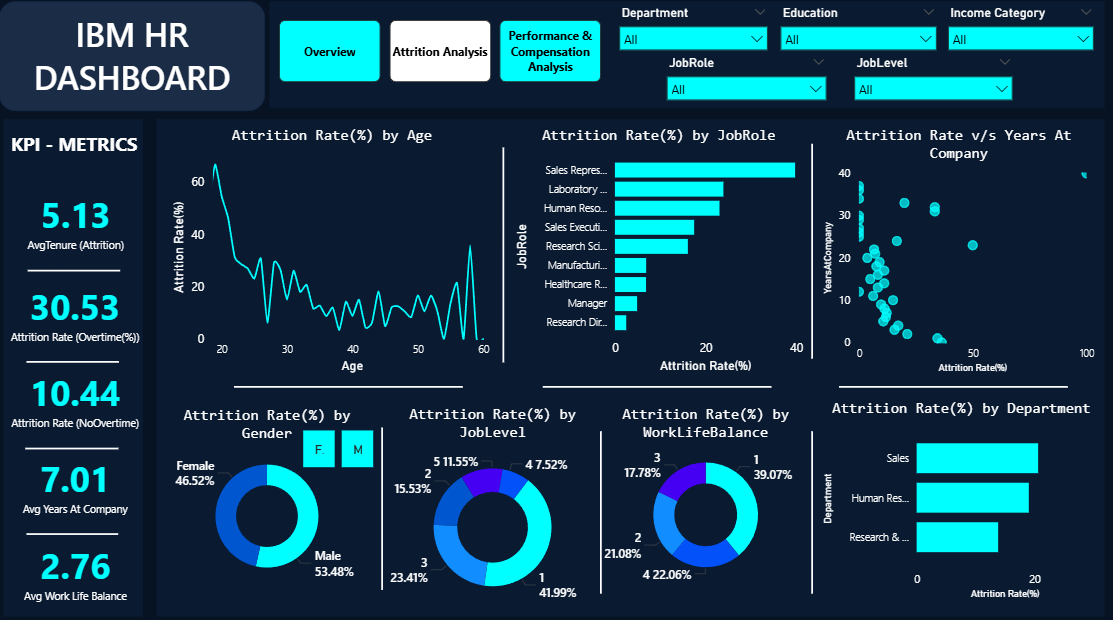

The page's visual inventory and layout, read from the dashboard file:
{"tool":"powerbi","page":{"name":"Attrition Analysis","canvas":[1280,720],"ordinal":1},"visuals":[{"type":"card","fields":{"Values":["All.AttritionRate_Overtime"]},"box":[7.6,314.6,171.4,98.6],"z":0},{"type":"card","fields":{"Values":["All.AttritionRate_NoOvertime"]},"box":[13.4,412.1,160,97.1],"z":1000},{"type":"clusteredBarChart","fields":{"Category":["WA_Fn-UseC_-HR-Employee-Attrition.Department"],"Y":["All.AttritionRate(%)"]},"box":[942.9,461.4,325.7,234.3],"z":2000},{"type":"clusteredBarChart","fields":{"Y":["All.AttritionRate(%)"],"Category":["WA_Fn-UseC_-HR-Employee-Attrition.JobRole"]},"box":[590,150,340,287.1],"z":3000},{"type":"donutChart","fields":{"Category":["WA_Fn-UseC_-HR-Employee-Attrition.JobLevel"],"Y":["All.AttritionRate(%)"]},"box":[444.3,468.6,251.4,240],"z":4000},{"type":"areaChart","fields":{"Category":["WA_Fn-UseC_-HR-Employee-Attrition.Age"],"Y":["All.AttritionRate(%)"]},"box":[198.6,150,375.7,287.1],"z":5000},{"type":"donutChart","fields":{"Y":["All.AttritionRate(%)"],"Category":["WA_Fn-UseC_-HR-Employee-Attrition.WorkLifeBalance"]},"box":[687.1,468.6,252.9,211.4],"z":6000},{"type":"card","fields":{"Values":["All.AvgYearsAtCompany"]},"box":[17.6,508.2,151.4,102.9],"z":7000},{"type":"card","fields":{"Values":["All.AvgWorkLifeBalance"]},"box":[15.9,610,155,98.3],"z":8000},{"type":"donutChart","fields":{"Y":["All.AttritionRate(%)"],"Category":["WA_Fn-UseC_-HR-Employee-Attrition.Gender"]},"box":[194.3,470,235.7,211.4],"z":9000},{"type":"scatterChart","title":"Attrition Rate v/s Years At Company","fields":{"Y":["HR_Data.YearsAtCompany"],"X":["All.AttritionRate(%)"]},"box":[942.9,150,320,287.1],"z":10000},{"type":"card","fields":{"Values":["All.AvgTenure_Attrition"]},"box":[8.4,201.4,170,114.3],"z":11000},{"type":"advancedSlicerVisual","fields":{"Values":["WA_Fn-UseC_-HR-Employee-Attrition.Gender"]},"box":[348.6,492.9,91.4,52.9],"z":12000},{"type":"textbox","box":[14.3,150,175.7,47.1],"z":13000},{"type":"shape","box":[38.6,297.1,105.7,35.7],"z":14000},{"type":"shape","box":[37.1,401.4,105.7,35.7],"z":15000},{"type":"shape","box":[35,500,106.7,36.7],"z":16000},{"type":"shape","box":[36.7,598.3,105,35],"z":17000},{"type":"shape","box":[274.3,430,261.4,35.7],"z":18000},{"type":"shape","box":[627.1,430,261.4,35.7],"z":19000},{"type":"shape","box":[965.7,430,261.4,35.7],"z":20000},{"type":"shape","box":[564.3,174.3,35.7,245.7],"z":21000},{"type":"shape","box":[917.1,170,35.7,245.7],"z":22000},{"type":"shape","box":[425.7,494.3,35.7,185.7],"z":23000},{"type":"shape","box":[675.7,498.6,35.7,185.7],"z":24000},{"type":"shape","box":[917.1,498.6,35.7,185.7],"z":25000},{"type":"slicer","fields":{"Values":["WA_Fn-UseC_-HR-Employee-Attrition.Department"]},"box":[704.3,7.1,190,88.6],"z":26000},{"type":"slicer","fields":{"Values":["WA_Fn-UseC_-HR-Employee-Attrition.JobRole"]},"box":[758.6,64.3,202.9,71.4],"z":27000},{"type":"slicer","fields":{"Values":["WA_Fn-UseC_-HR-Employee-Attrition.JobLevel"]},"box":[972.9,64.3,201.4,68.6],"z":28000},{"type":"slicer","fields":{"Values":["WA_Fn-UseC_-HR-Employee-Attrition.Education"]},"box":[888.6,7.1,198.6,64.3],"z":29000},{"type":"slicer","fields":{"Values":["HR_Data.Monthly_Slicer"]},"box":[1080,7.1,187.1,88.6],"z":30000},{"type":"pageNavigator","box":[325.7,28.6,370,71.4],"z":31000},{"type":"textbox","box":[5.7,7.1,304.3,125.7],"z":32000}]}

Visuals, with their boxes in screenshot pixels (x1, y1, x2, y2), scaled from the page's 1280x720 canvas onto the 1113x620 screenshot:
card - All.AttritionRate_Overtime: (7,271,156,356)
card - All.AttritionRate_NoOvertime: (12,355,151,438)
clusteredBarChart - WA_Fn-UseC_-HR-Employee-Attrition.Department x All.AttritionRate(%): (820,397,1103,599)
clusteredBarChart - All.AttritionRate(%) x WA_Fn-UseC_-HR-Employee-Attrition.JobRole: (513,129,809,376)
donutChart - WA_Fn-UseC_-HR-Employee-Attrition.JobLevel x All.AttritionRate(%): (386,404,605,610)
areaChart - WA_Fn-UseC_-HR-Employee-Attrition.Age x All.AttritionRate(%): (173,129,499,376)
donutChart - All.AttritionRate(%) x WA_Fn-UseC_-HR-Employee-Attrition.WorkLifeBalance: (597,404,817,586)
card - All.AvgYearsAtCompany: (15,438,147,526)
card - All.AvgWorkLifeBalance: (14,525,149,610)
donutChart - All.AttritionRate(%) x WA_Fn-UseC_-HR-Employee-Attrition.Gender: (169,405,374,587)
"Attrition Rate v/s Years At Company" scatterChart: (820,129,1098,376)
card - All.AvgTenure_Attrition: (7,173,155,272)
advancedSlicerVisual - WA_Fn-UseC_-HR-Employee-Attrition.Gender: (303,424,383,470)
textbox: (12,129,165,170)
shape: (34,256,125,287)
shape: (32,346,124,376)
shape: (30,431,123,462)
shape: (32,515,123,545)
shape: (239,370,466,401)
shape: (545,370,773,401)
shape: (840,370,1067,401)
shape: (491,150,522,362)
shape: (797,146,828,358)
shape: (370,426,401,586)
shape: (588,429,619,589)
shape: (797,429,828,589)
slicer - WA_Fn-UseC_-HR-Employee-Attrition.Department: (612,6,778,82)
slicer - WA_Fn-UseC_-HR-Employee-Attrition.JobRole: (660,55,836,117)
slicer - WA_Fn-UseC_-HR-Employee-Attrition.JobLevel: (846,55,1021,114)
slicer - WA_Fn-UseC_-HR-Employee-Attrition.Education: (773,6,945,61)
slicer - HR_Data.Monthly_Slicer: (939,6,1102,82)
pageNavigator: (283,25,605,86)
textbox: (5,6,270,114)
